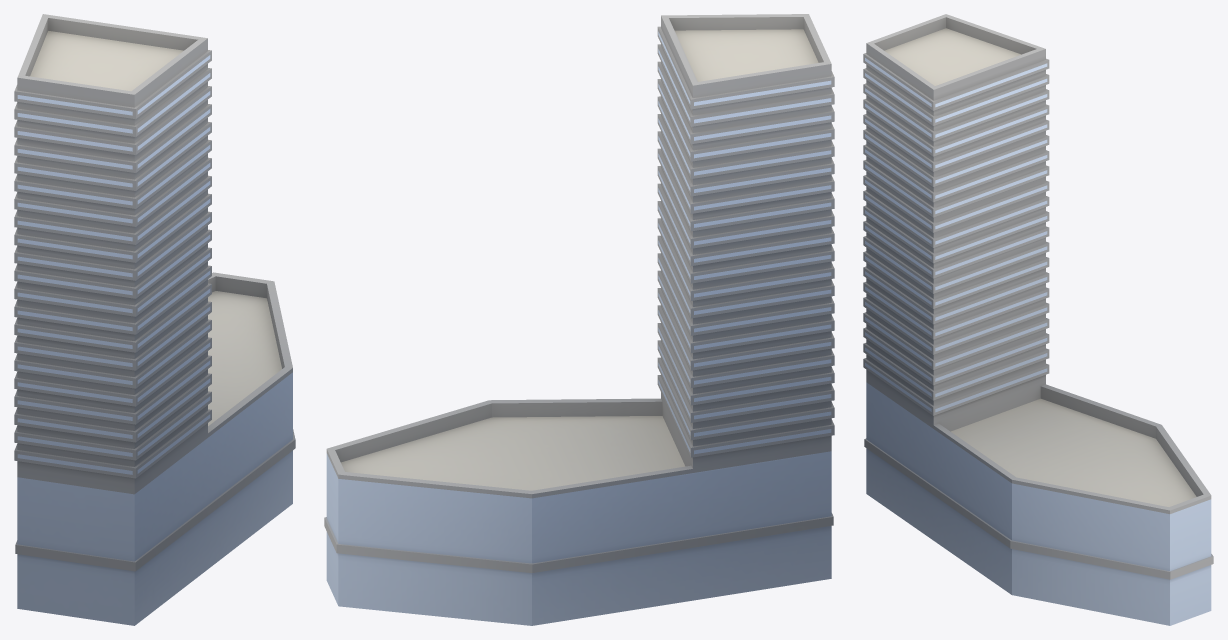
3 views of the same model, side by side, from view 1: azimuth 30°, elevation 25°; view 2: azimuth 150°, elevation 25°; view 3: azimuth 270°, elevation 25° (orthographic). The views are drawn at different scales.
Parts seen in each view (by area): view 1: 70030076454615359; view 2: 70030076454615359; view 3: 70030076454615359.
Boxes of the visible parts, bbox=[...] form: 70030076454615359: bbox=[14, 14, 295, 625]; 70030076454615359: bbox=[324, 14, 834, 625]; 70030076454615359: bbox=[863, 14, 1213, 625].
Size of the model in its own units: 32.01 by 41.23 by 29.01.
1 material, 1 textured.
